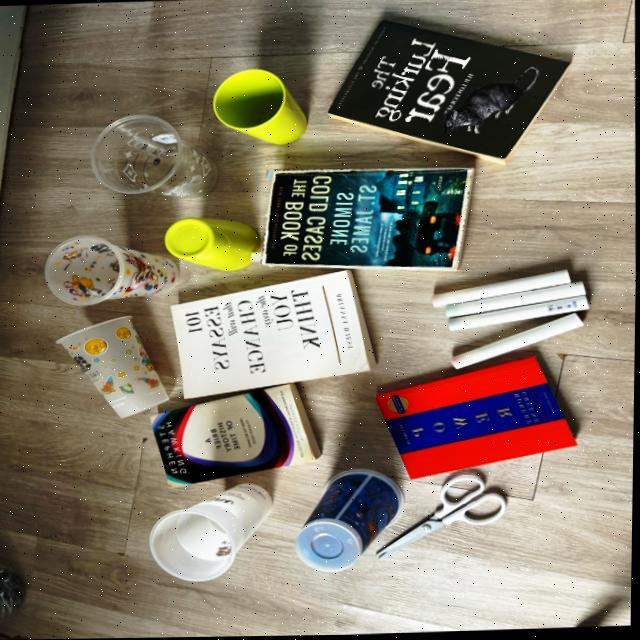Book: (329, 22, 569, 164), (174, 269, 379, 397), (377, 357, 578, 482), (262, 169, 473, 270), (151, 384, 325, 490)
HighLight Pen: (451, 314, 585, 371), (449, 282, 586, 316), (436, 272, 571, 306), (455, 298, 591, 330)
Plastic Cup: (151, 485, 273, 582), (58, 316, 169, 417), (298, 470, 404, 572), (92, 115, 214, 196), (46, 236, 179, 305)
Scissors: (385, 476, 512, 561)
WaterGlass: (213, 70, 306, 145), (165, 218, 260, 271)
